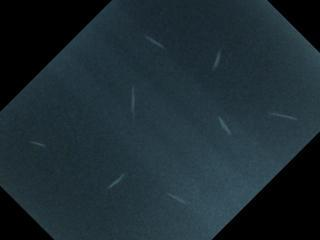scratch: (17, 130, 72, 166), (135, 31, 170, 71), (244, 109, 301, 128), (129, 82, 148, 125), (212, 110, 236, 139), (106, 169, 132, 192), (166, 187, 192, 208), (24, 136, 50, 152), (210, 47, 226, 73)
